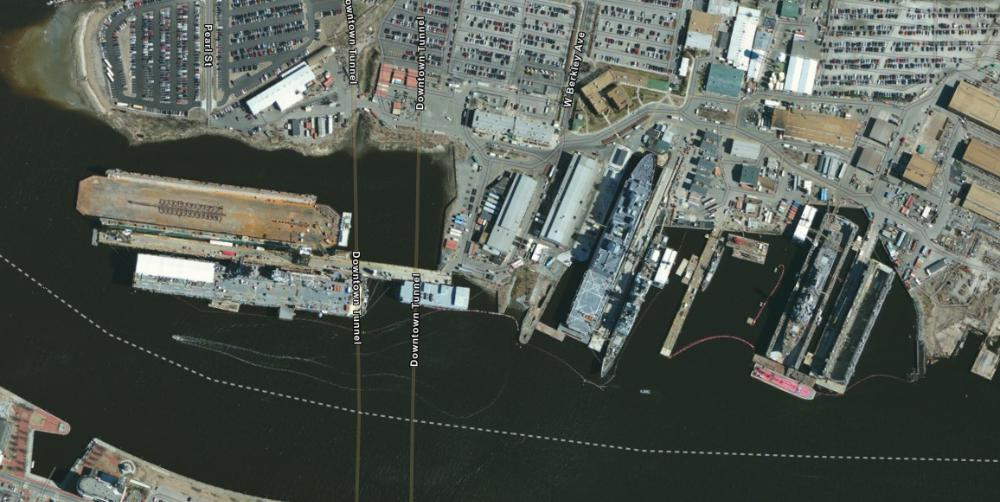pha: (124, 244, 391, 338)
supply: (565, 137, 657, 345)
